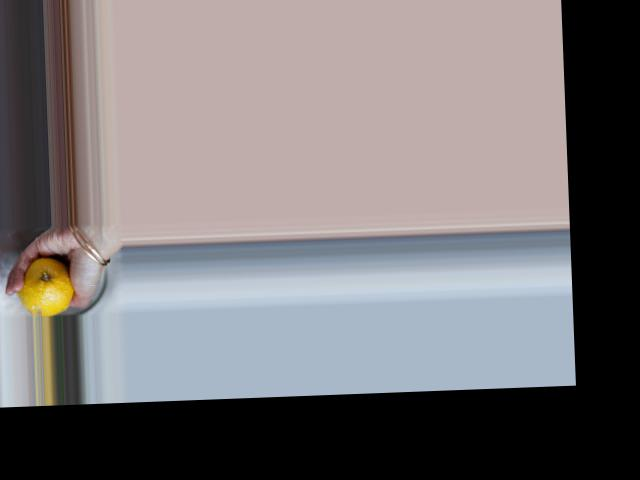lemon: (17, 255, 71, 315)
